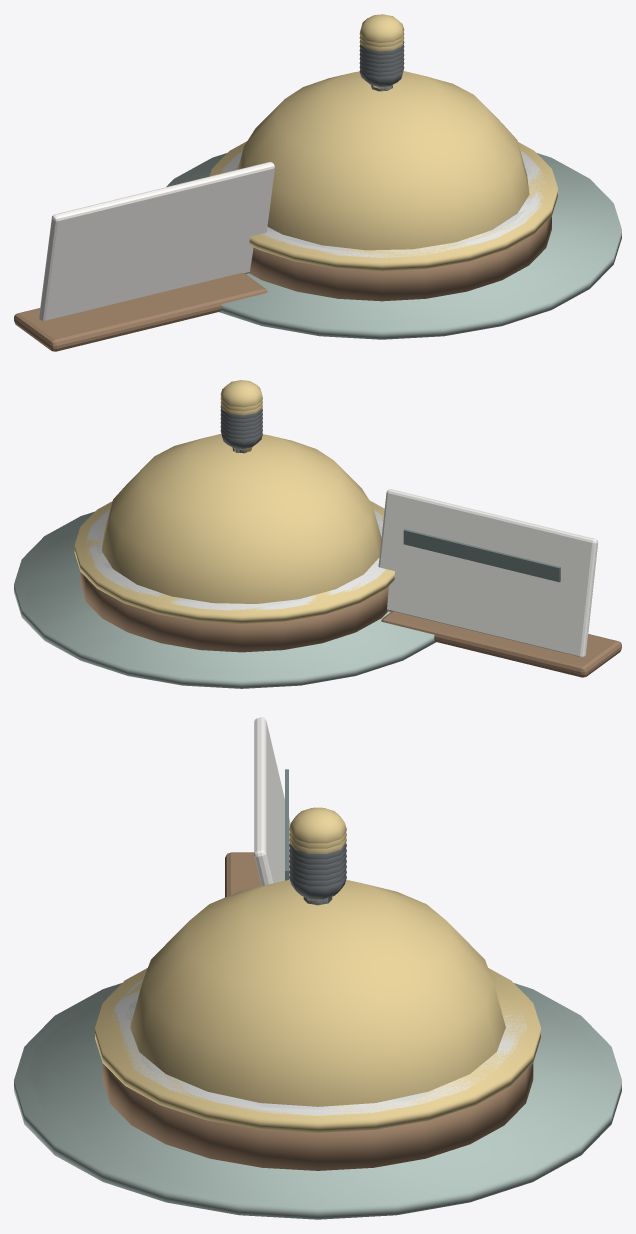
File: Gear02.fbx
3 views of the same model, one above another, from view 1: azimuth 30°, elevation 25°; view 2: azimuth 150°, elevation 25°; view 3: azimuth 270°, elevation 25° (orthographic). The views are drawn at different scales.
Parts seen in each view (by area): view 1: Gear02_V10_Brass, Gear02_V10_Fabric, Gear02_V3_Paper, Gear02_V10_Walnut, Gear02_V10_Paper, Gear02_V7_Fabric, Gear02_V9_Walnut, Gear02_V5_Paper, Gear02_V9_Fabric, Gear02_V9_Paper, Gear02_V7_Chrome, Gear02_V9_Brass (+8 smaller); view 2: Gear02_V10_Brass, Gear02_V10_Fabric, Gear02_V4_Paper, Gear02_V10_Walnut, Gear02_V3_Paper, Gear02_V7_Fabric, Gear02_V8_Fabric, Gear02_V10_Paper, Gear02_V9_Fabric, Gear02_V9_Walnut, Gear02_V9_Paper, Gear02_V3_Ink (+11 smaller); view 3: Gear02_V10_Brass, Gear02_V10_Fabric, Gear02_V7_Fabric, Gear02_V10_Walnut, Gear02_V8_Fabric, Gear02_V9_Brass, Gear02_V7_Chrome, Gear02_V10_Paper, Gear02_V3_Paper, Gear02_V5_Chrome, Gear02_V6_Chrome, Gear02_V8_Brass (+4 smaller).
Boxes of the visible parts, left/top/right/bottom form: Gear02_V10_Brass: left=209, top=14, right=557, bottom=271; Gear02_V10_Fabric: left=166, top=153, right=621, bottom=339; Gear02_V3_Paper: left=84, top=162, right=274, bottom=310; Gear02_V10_Walnut: left=14, top=216, right=551, bottom=351; Gear02_V10_Paper: left=39, top=171, right=235, bottom=320; Gear02_V7_Fabric: left=204, top=168, right=606, bottom=324; Gear02_V9_Walnut: left=23, top=273, right=267, bottom=349; Gear02_V5_Paper: left=72, top=164, right=258, bottom=313; Gear02_V9_Fabric: left=173, top=157, right=616, bottom=328; Gear02_V9_Paper: left=51, top=178, right=225, bottom=319; Gear02_V7_Chrome: left=221, top=150, right=545, bottom=257; Gear02_V9_Brass: left=213, top=32, right=553, bottom=255; Gear02_V10_Brass: left=74, top=380, right=394, bottom=623; Gear02_V10_Fabric: left=14, top=511, right=436, bottom=688; Gear02_V4_Paper: left=385, top=490, right=563, bottom=648; Gear02_V10_Walnut: left=80, top=572, right=621, bottom=677; Gear02_V3_Paper: left=378, top=489, right=558, bottom=648; Gear02_V7_Fabric: left=28, top=526, right=348, bottom=674; Gear02_V8_Fabric: left=25, top=521, right=417, bottom=675; Gear02_V10_Paper: left=411, top=498, right=598, bottom=656; Gear02_V9_Fabric: left=21, top=515, right=379, bottom=676; Gear02_V9_Walnut: left=381, top=611, right=580, bottom=675; Gear02_V9_Paper: left=418, top=498, right=589, bottom=655; Gear02_V3_Ink: left=403, top=529, right=525, bottom=573; Gear02_V10_Brass: left=95, top=807, right=540, bottom=1132; Gear02_V10_Fabric: left=14, top=983, right=621, bottom=1219; Gear02_V7_Fabric: left=32, top=1001, right=599, bottom=1200; Gear02_V10_Walnut: left=102, top=852, right=533, bottom=1170; Gear02_V8_Fabric: left=26, top=992, right=607, bottom=1202; Gear02_V9_Brass: left=99, top=832, right=536, bottom=1119; Gear02_V7_Chrome: left=111, top=980, right=527, bottom=1115; Gear02_V10_Paper: left=254, top=717, right=290, bottom=881; Gear02_V3_Paper: left=254, top=740, right=289, bottom=885; Gear02_V5_Chrome: left=120, top=990, right=517, bottom=1111; Gear02_V6_Chrome: left=115, top=1001, right=521, bottom=1113; Gear02_V8_Brass: left=105, top=838, right=530, bottom=1117.
Size of the model in its own units: 40.58 by 19.32 by 29.4.
